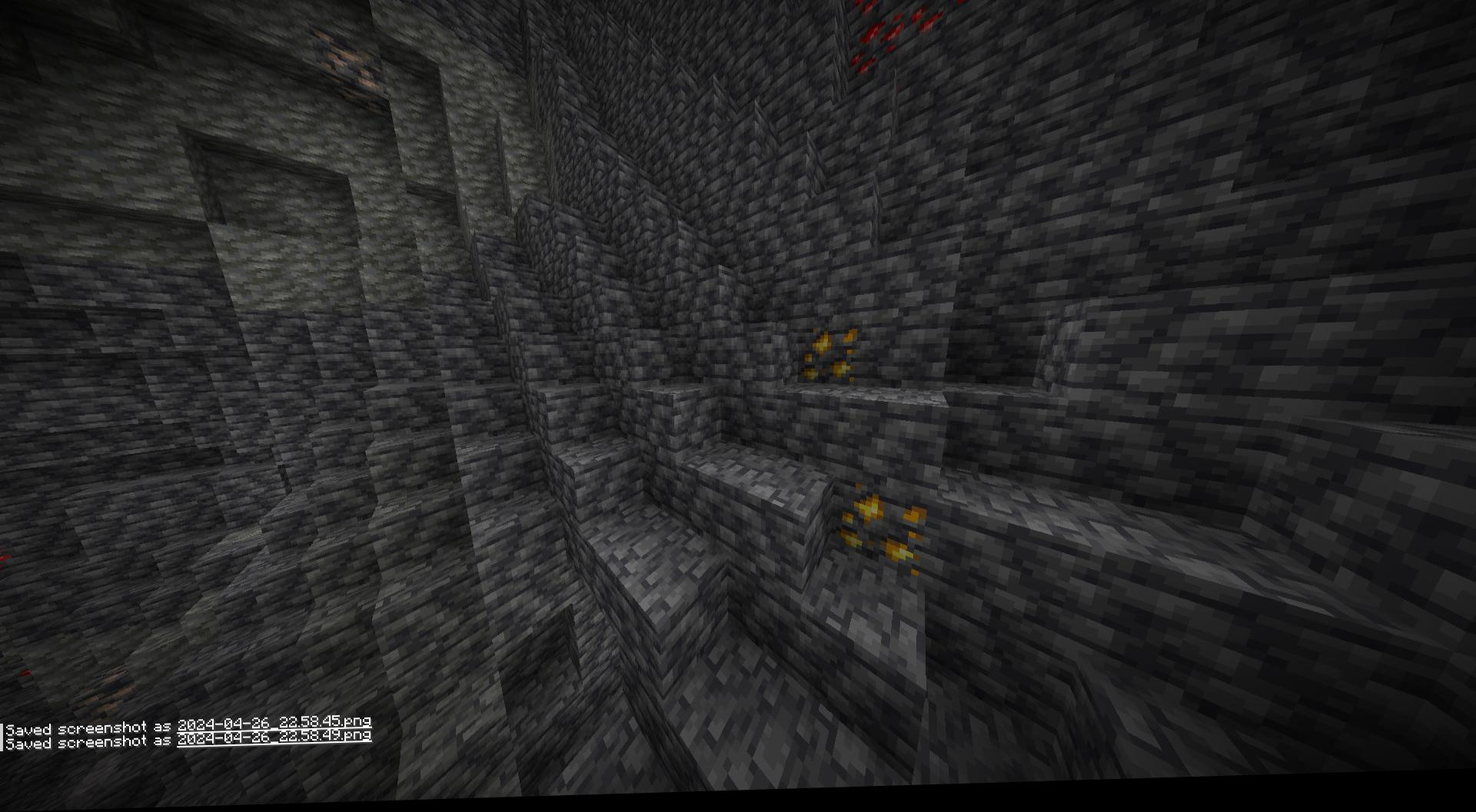gold ore: (828, 482, 929, 579), (797, 325, 861, 391)
iron ore: (313, 28, 387, 112)
redstone ore: (851, 0, 983, 81)
